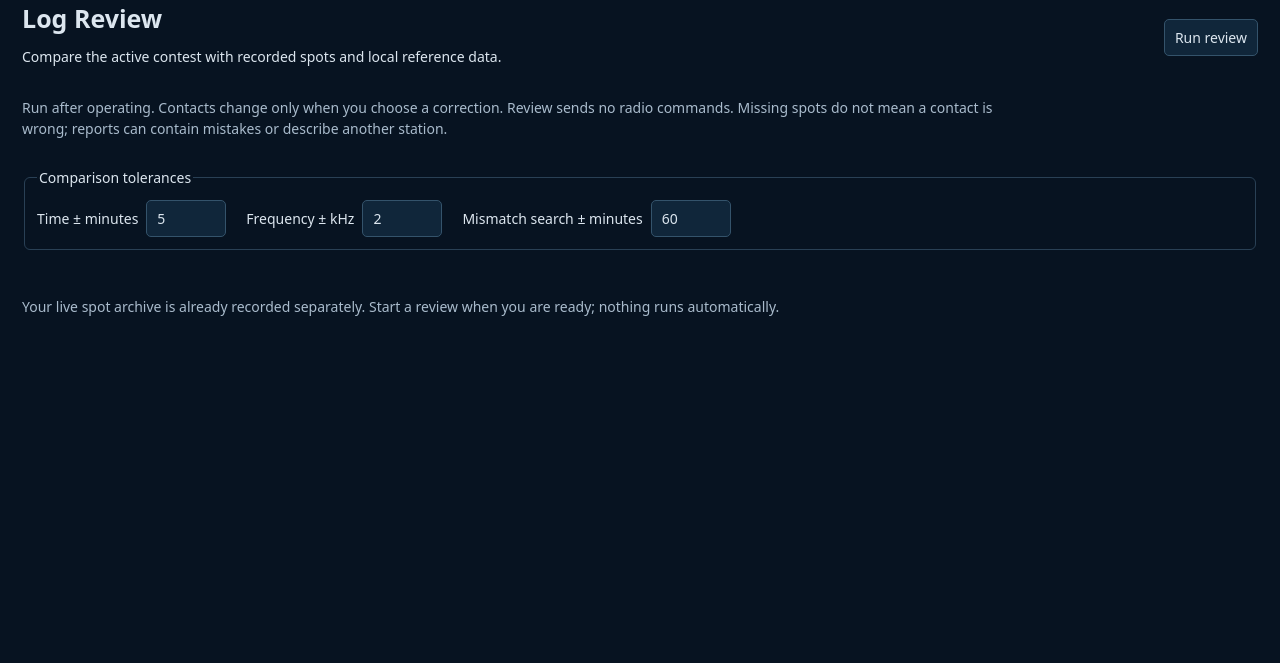
Log Review window › does no work until Run review; shows evidence and persists a review decision without editing
Click the button "Run review": [1211, 37] box [1164,19,1258,56]
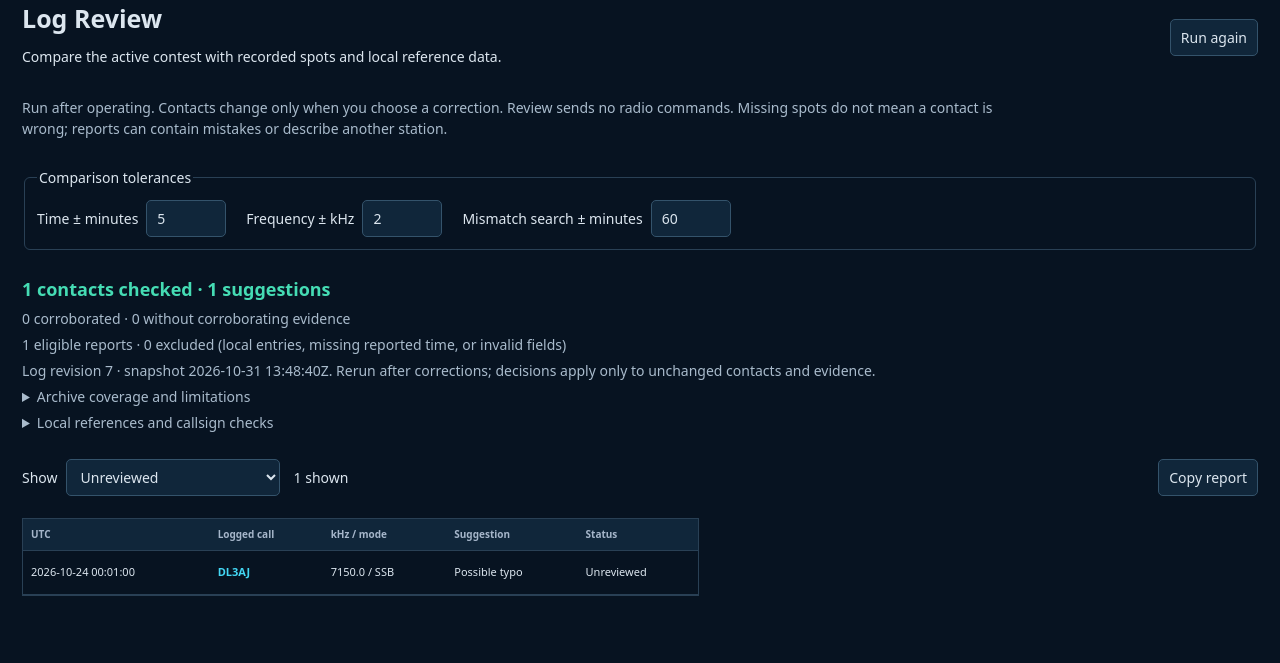
Click the button "DL3AJ": [234, 572] box [218,558,250,586]
(page scrolled)
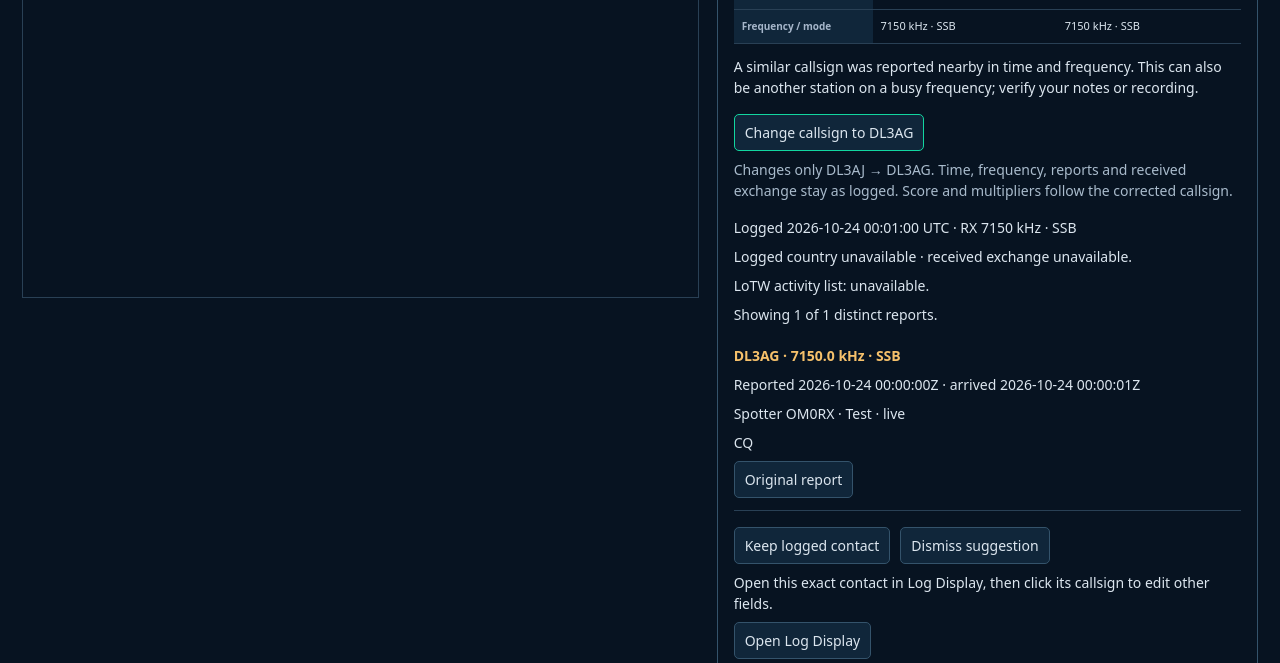
Click the button "Original report": [794, 479] box [734,460,853,498]
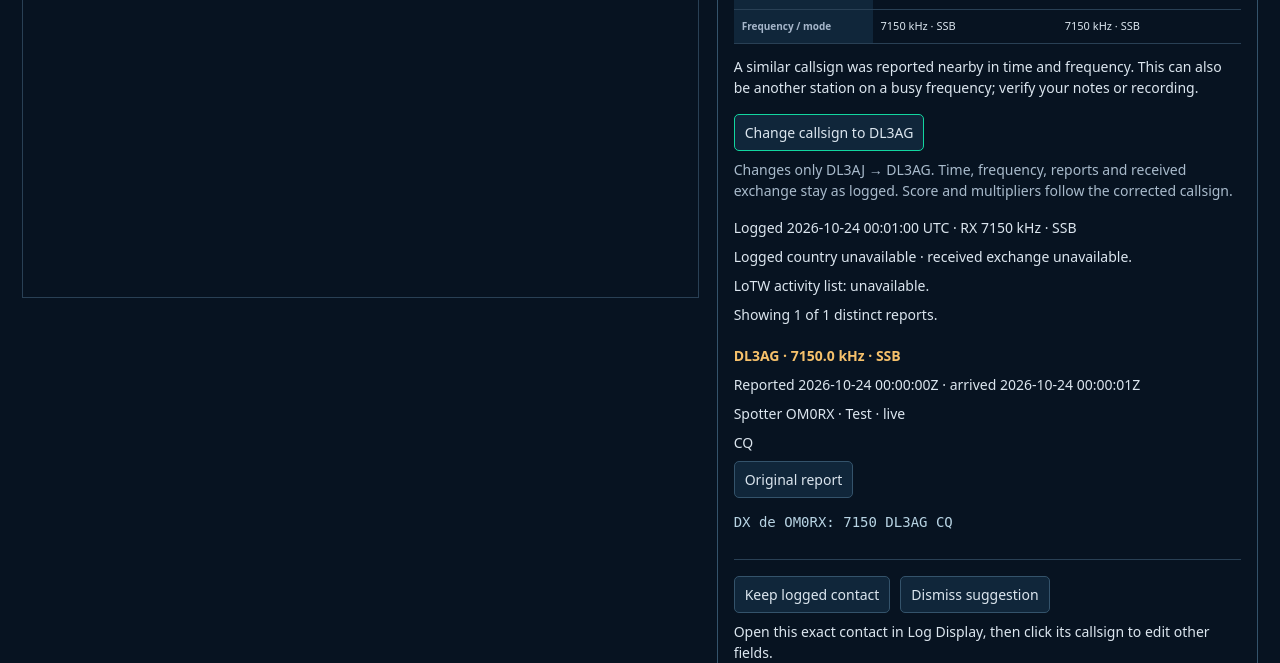
Now the text "DX de OM0RX: 7150 DL3AG CQ" is shown, box [734,514,953,530]
Click the button "Keep logged contact": [812, 594] box [734,576,890,612]
(page scrolled)
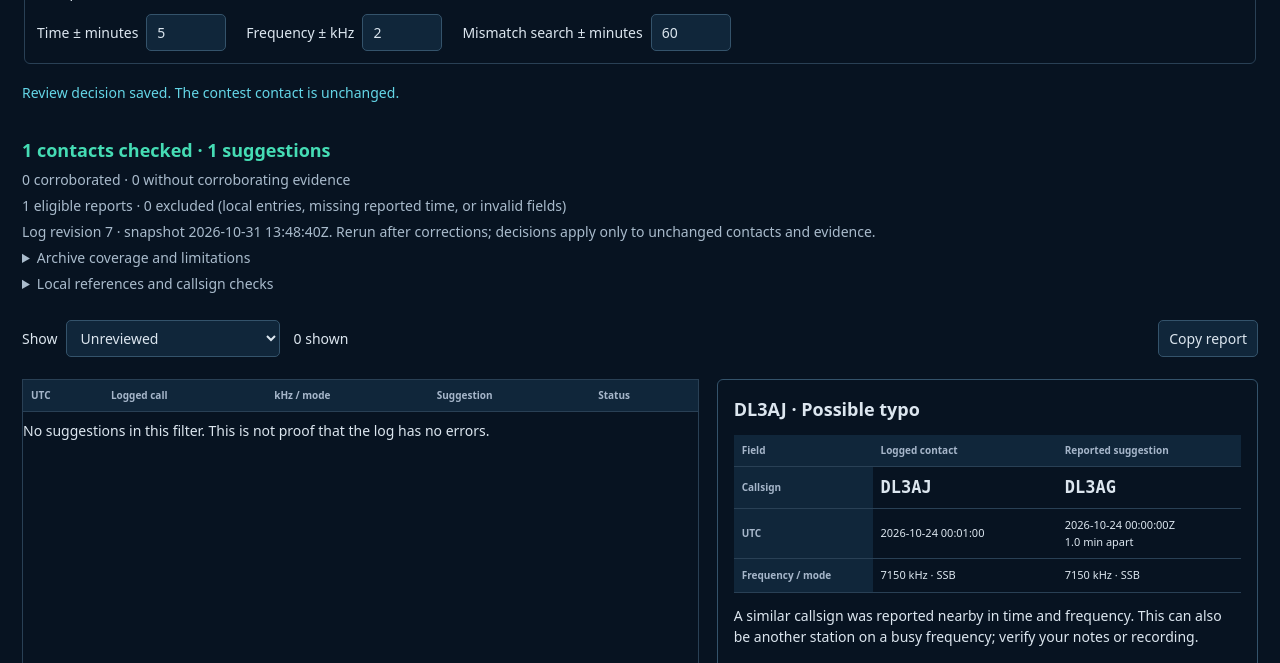
Select "Reviewed" in the dropdown labelled "Show": [172, 338] box [66,320,280,356]
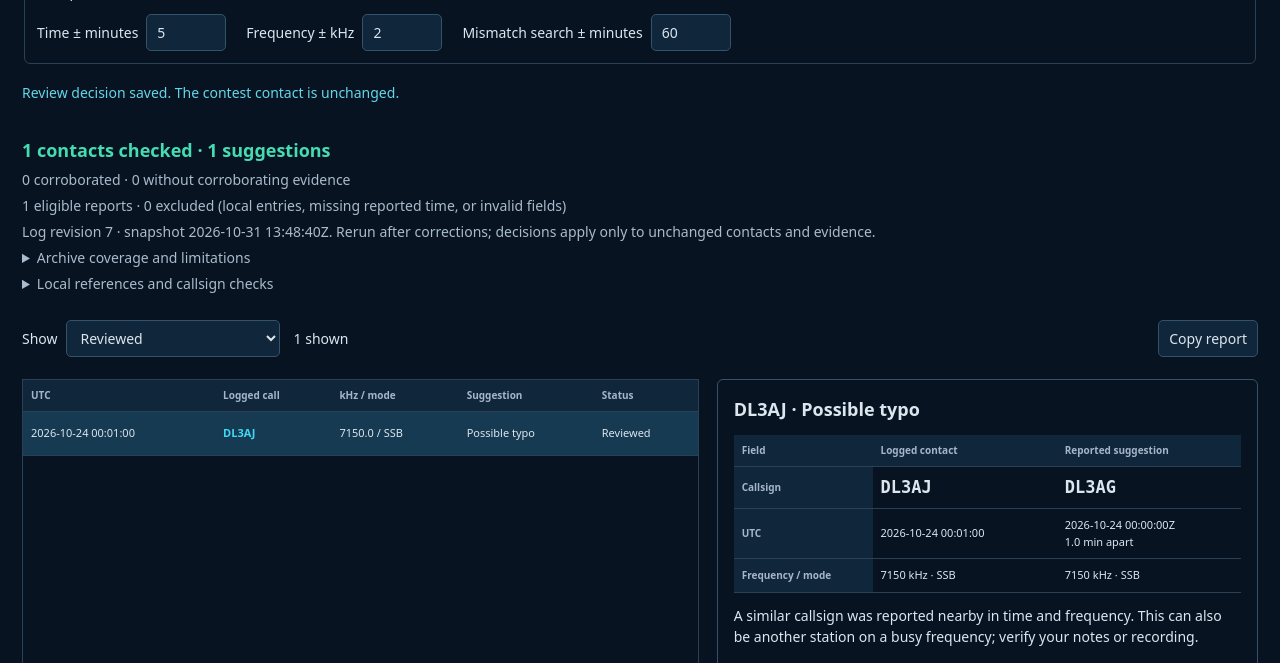
Now the button "DL3AJ" is shown, box [223,420,256,446]
